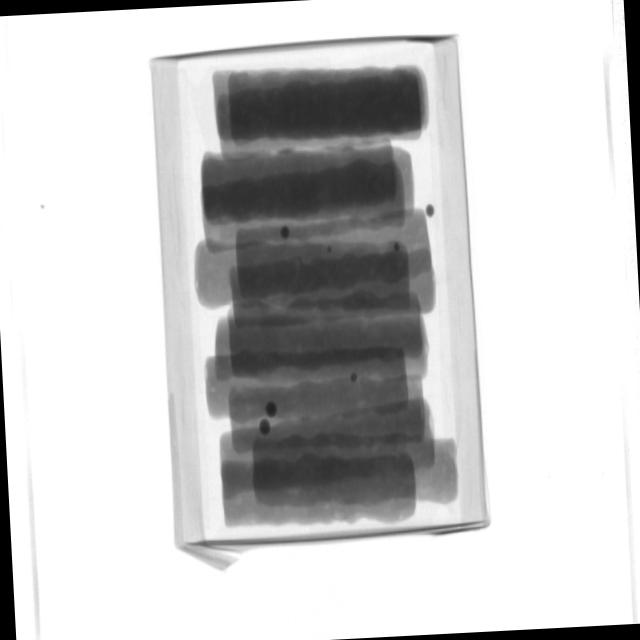ym: (259, 420, 271, 437), (268, 400, 280, 416), (281, 225, 292, 239), (426, 205, 435, 217), (394, 243, 402, 253), (352, 375, 360, 384), (328, 248, 333, 253)
